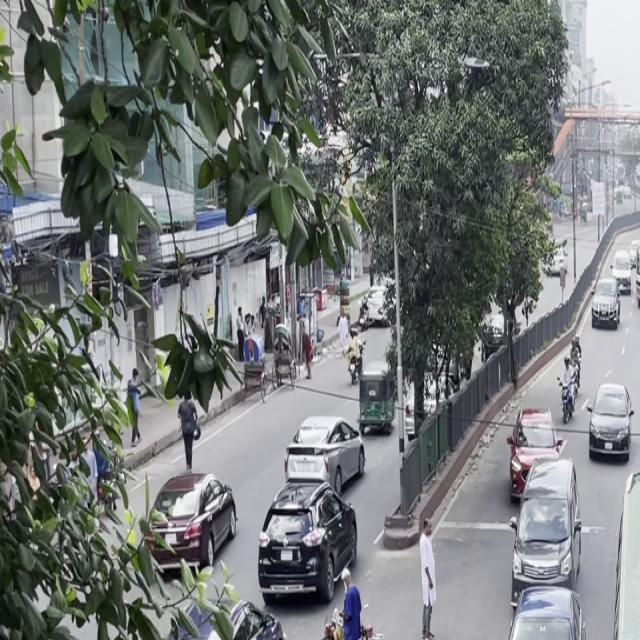bicycle: (308, 573, 396, 640)
bus: (608, 432, 640, 640), (635, 259, 640, 307)
car: (249, 482, 358, 610), (137, 467, 240, 580), (509, 454, 584, 594), (279, 411, 368, 495), (488, 577, 593, 640), (507, 403, 561, 502), (587, 375, 636, 465), (589, 280, 618, 334), (605, 245, 630, 286)
motorbike: (505, 413, 538, 505), (556, 361, 577, 428)
